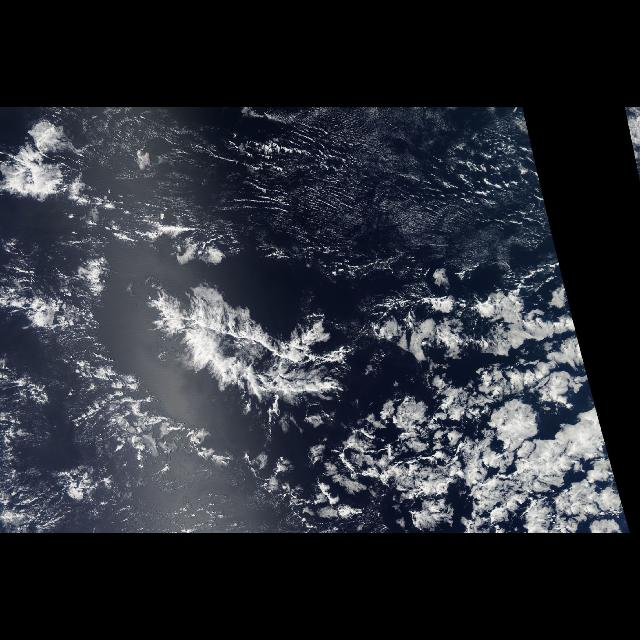Fish: (98, 266, 360, 438)
Flower: (308, 276, 624, 534), (219, 117, 519, 255)
Gravel: (8, 327, 284, 527)
Sugar: (65, 111, 559, 275), (5, 331, 104, 529)
